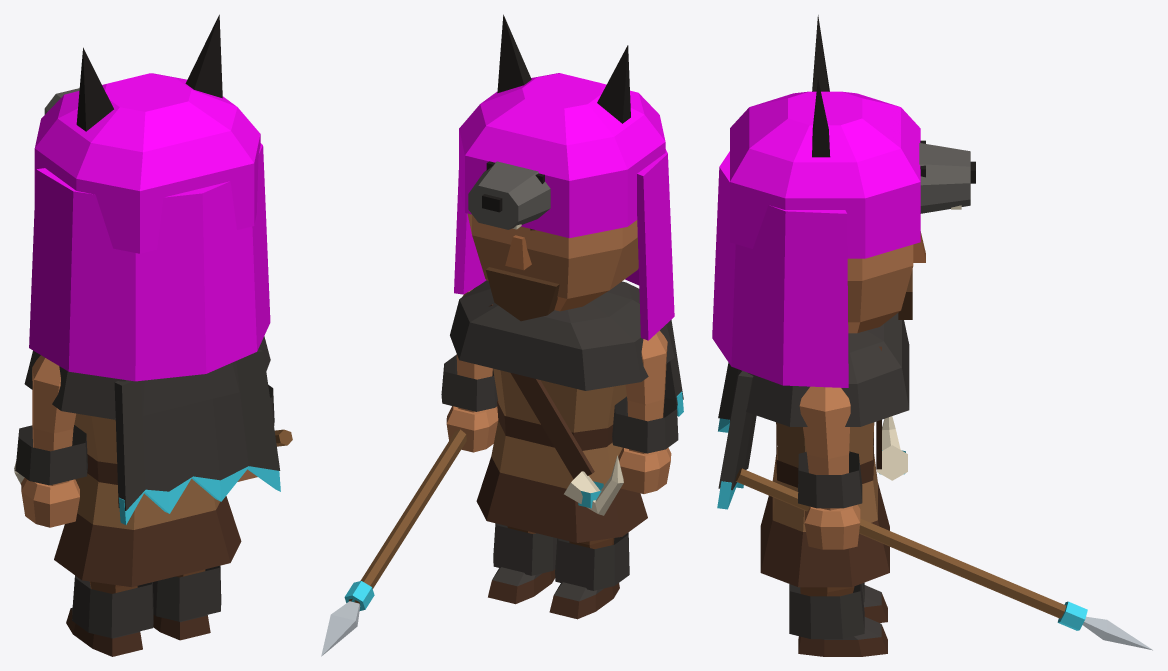
File: CH_Beastmaster_BlackWolf.fbx
The picture shows the model from 3 angles, left to right: view 1: azimuth 30°, elevation 25°; view 2: azimuth 150°, elevation 25°; view 3: azimuth 270°, elevation 25°; orthographic projection. The views are drawn at different scales.
Parts seen in each view (by area): view 1: Head, Body, ArmL, LegL, LegR, ArmR; view 2: Head, Body, ArmR, ArmL, LegL, LegR; view 3: Head, Body, ArmR, LegR, LegL.
Part boxes in pixels (bbox=[...]): Head: bbox=[29, 14, 270, 381]; Body: bbox=[14, 336, 280, 587]; ArmL: bbox=[15, 355, 87, 527]; LegL: bbox=[66, 575, 153, 656]; LegR: bbox=[153, 566, 221, 640]; ArmR: bbox=[237, 385, 292, 481]; Head: bbox=[454, 14, 674, 340]; Body: bbox=[450, 280, 683, 542]; ArmR: bbox=[321, 289, 498, 656]; ArmL: bbox=[612, 330, 678, 493]; LegL: bbox=[549, 532, 629, 619]; LegR: bbox=[488, 523, 557, 604]; Head: bbox=[712, 15, 975, 387]; Body: bbox=[717, 313, 909, 587]; ArmR: bbox=[735, 386, 1152, 650]; LegR: bbox=[789, 584, 887, 656]; LegL: bbox=[789, 582, 887, 622].
Size of the model in its own units: 0.762 by 1.23 by 1.8.
